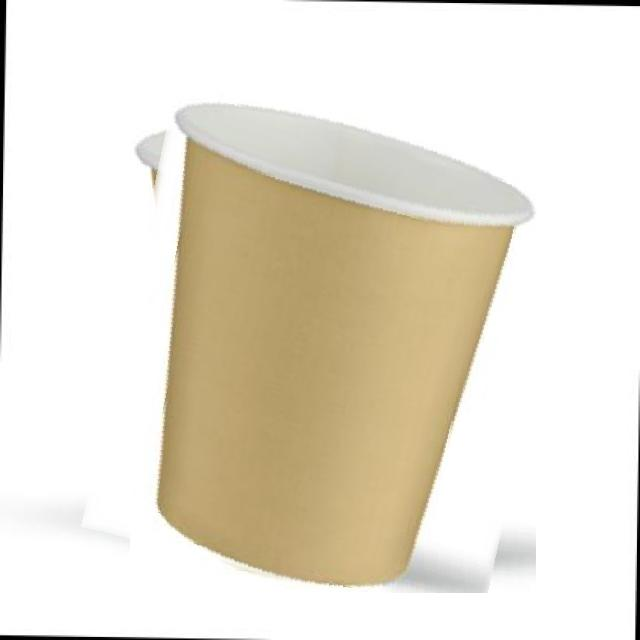non-biodegradable: (106, 42, 560, 593)
